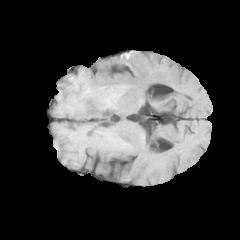glioma: (63, 52, 185, 120)
